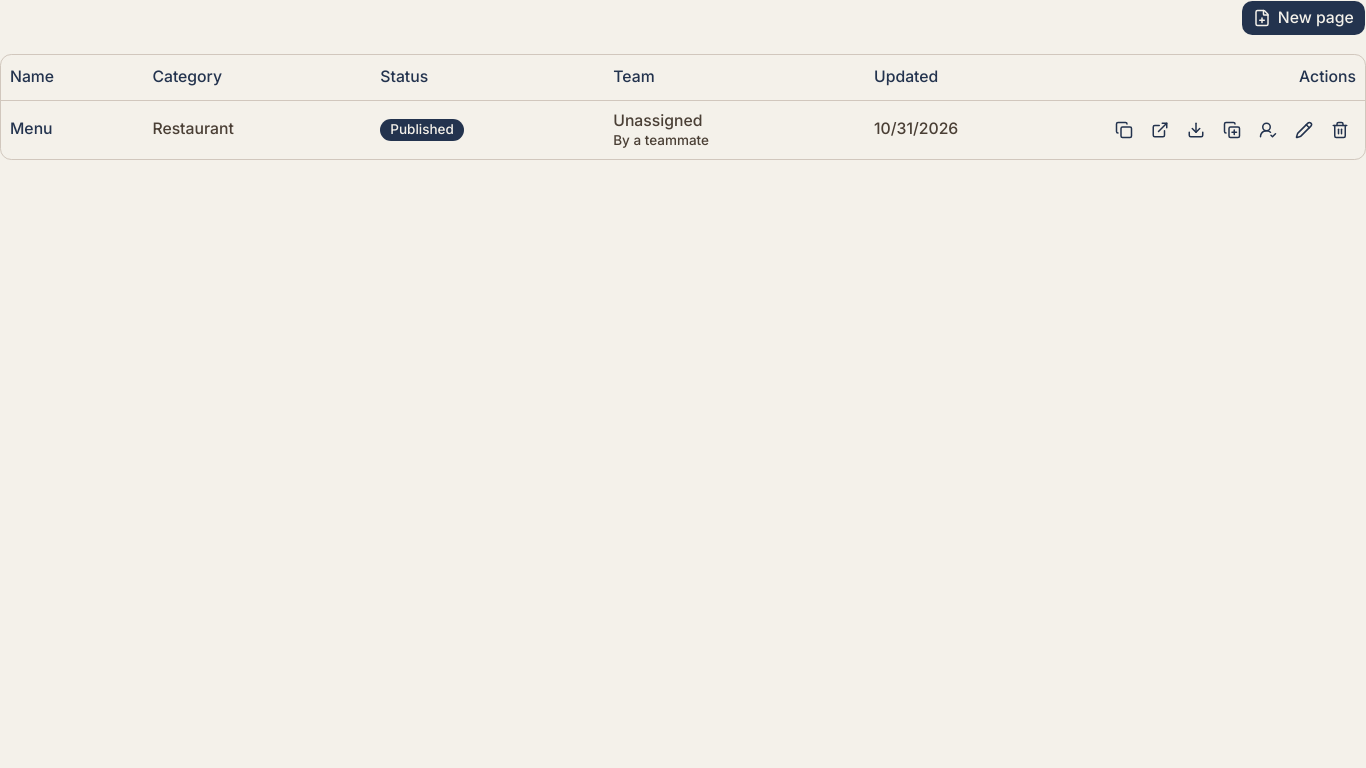
PageList › warns that deleting a live page takes its link offline
Step 1. Click the button named "Delete Menu" → [1340, 130], box [1324, 114, 1356, 146]
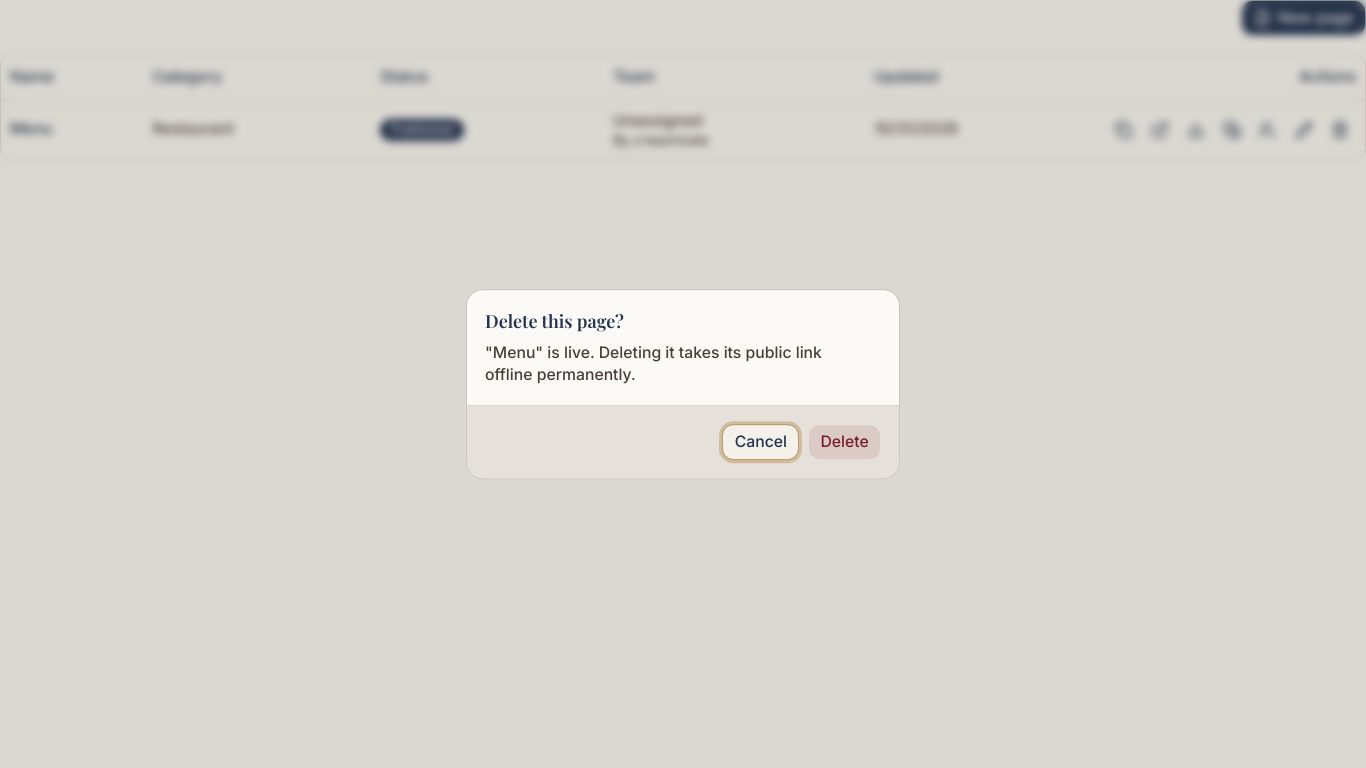
Now the text "takes its public link offline" is shown, box [485, 343, 822, 384]
